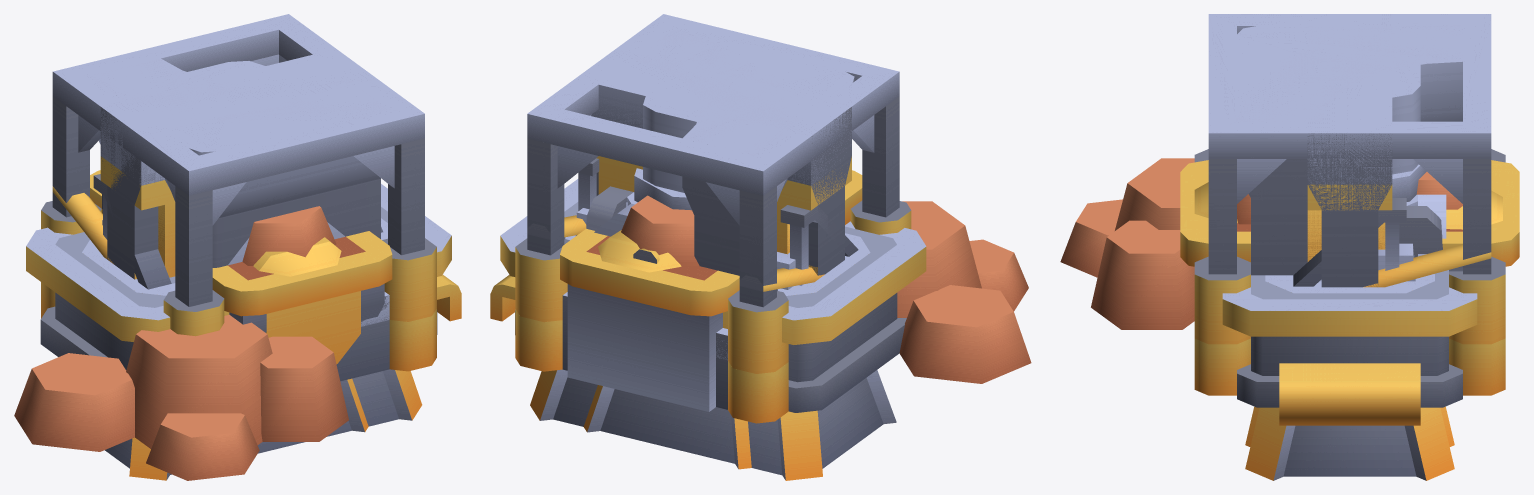
Rendered from kit_stazione.glb.
The picture shows the model from 3 angles, left to right: view 1: azimuth 30°, elevation 25°; view 2: azimuth 150°, elevation 25°; view 3: azimuth 270°, elevation 25°; orthographic projection. The views are drawn at different scales.
Parts seen in each view (by area): view 1: Group (×11), rocks, wall-corner-banner, wall-banner, table-large, skip-rocks, container-flat, skip, table-display, wall-door-center, wall-pillar-banner, wall-corner-round-banner (+13 smaller); view 2: Group (×12), skip-rocks, table-large, rocks, wall-banner, wall-corner-banner, table-display, wall-corner-round-banner, table-inset, skip, wall-pillar-banner, wall-door-center (+15 smaller); view 3: Group (×9), table-large, wall-corner-banner, wall-banner, rocks, bed-double-cover, table-inset, wall-corner-round-banner, skip-rocks, table-display, wall-door-center, wall-pillar-banner (+14 smaller).
Boxes of the visible parts, left/top/right/bottom form: Group (×11): left=41, top=14, right=436, bottom=371; rocks: left=14, top=314, right=348, bottom=480; wall-corner-banner: left=90, top=58, right=387, bottom=267; wall-banner: left=100, top=49, right=376, bottom=279; table-large: left=26, top=184, right=451, bottom=369; skip-rocks: left=90, top=170, right=392, bottom=332; container-flat: left=228, top=222, right=360, bottom=364; skip: left=90, top=189, right=391, bottom=330; table-display: left=129, top=370, right=422, bottom=480; wall-door-center: left=100, top=108, right=174, bottom=210; wall-pillar-banner: left=170, top=61, right=306, bottom=122; wall-corner-round-banner: left=92, top=59, right=385, bottom=119; Group (×12): left=515, top=14, right=911, bottom=423; skip-rocks: left=560, top=170, right=862, bottom=411; table-large: left=500, top=179, right=926, bottom=412; rocks: left=897, top=201, right=1031, bottom=383; wall-banner: left=575, top=49, right=851, bottom=275; wall-corner-banner: left=640, top=30, right=854, bottom=275; table-display: left=530, top=369, right=890, bottom=478; wall-corner-round-banner: left=637, top=30, right=780, bottom=154; table-inset: left=535, top=369, right=896, bottom=480; skip: left=560, top=189, right=862, bottom=408; wall-pillar-banner: left=643, top=61, right=783, bottom=192; wall-door-center: left=592, top=87, right=851, bottom=210; Group (×9): left=1194, top=14, right=1505, bottom=395; table-large: left=1222, top=270, right=1477, bottom=407; wall-corner-banner: left=1237, top=26, right=1462, bottom=275; wall-banner: left=1307, top=14, right=1392, bottom=287; rocks: left=1060, top=158, right=1194, bottom=329; bed-double-cover: left=1279, top=363, right=1420, bottom=425; table-inset: left=1254, top=407, right=1454, bottom=480; wall-corner-round-banner: left=1237, top=26, right=1462, bottom=121; skip-rocks: left=1180, top=160, right=1519, bottom=266; table-display: left=1245, top=407, right=1440, bottom=480; wall-door-center: left=1307, top=133, right=1392, bottom=210; wall-pillar-banner: left=1279, top=50, right=1420, bottom=174.
Size of the model in its own units: 1.91 by 1.3 by 1.62.
1 material, 1 textured.
